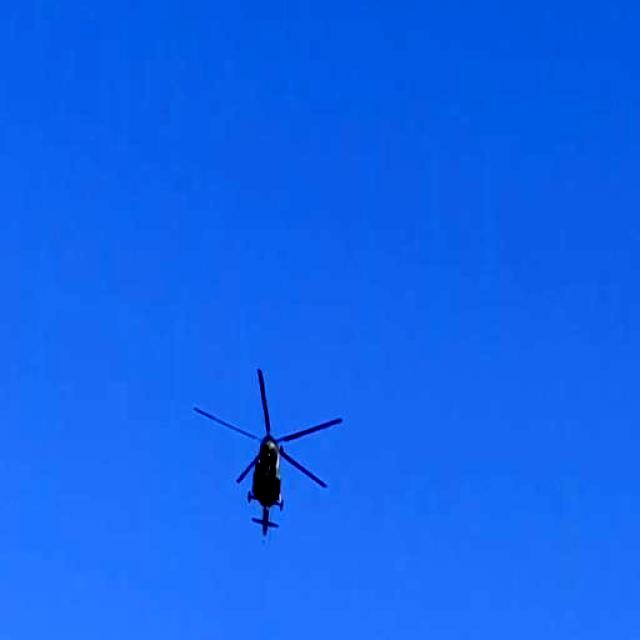drone: (195, 365, 346, 535)
